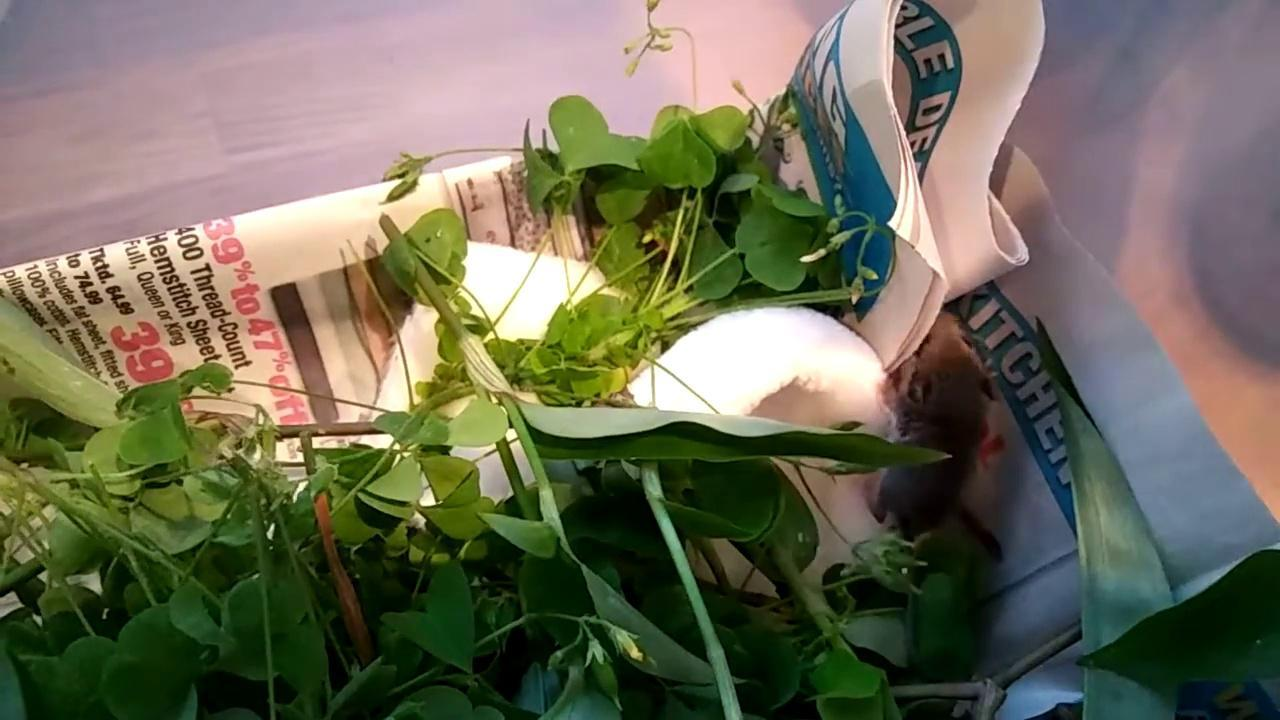rat: (876, 313, 990, 541)
